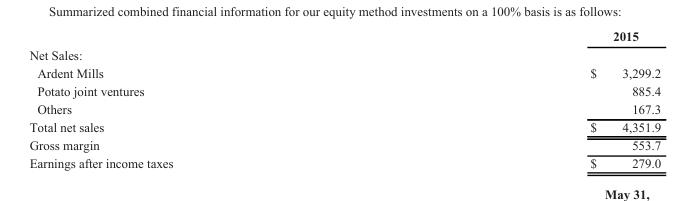table: (28, 28, 660, 170)
table column: (28, 28, 381, 170), (381, 28, 660, 170)
table column header: (28, 28, 660, 45)
table projected row header: (28, 45, 660, 63)
table row: (28, 45, 660, 63), (28, 63, 660, 81), (28, 81, 660, 99), (28, 99, 660, 117), (28, 117, 660, 135), (28, 135, 660, 153), (28, 28, 660, 45), (28, 153, 660, 170)
